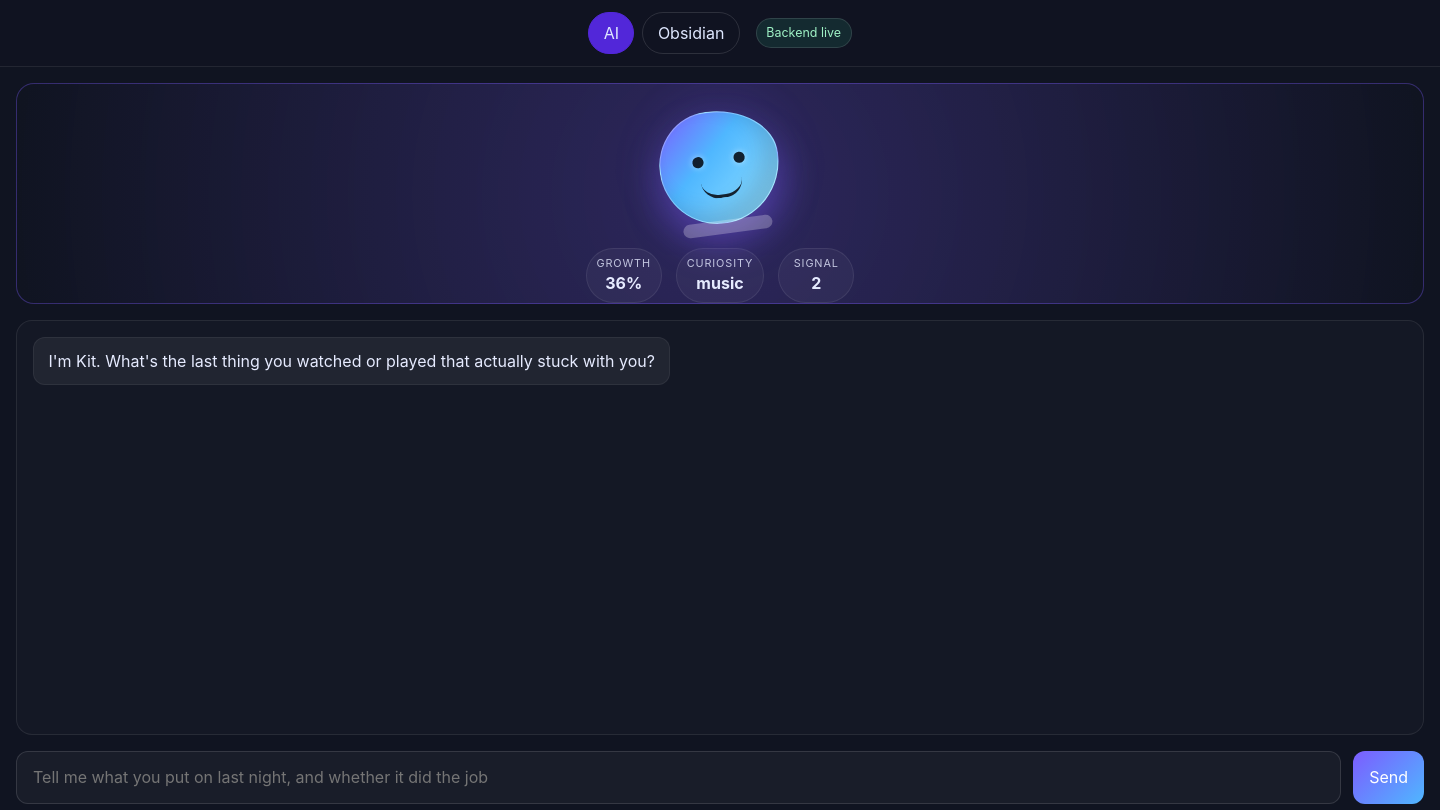
Kit UI › switches to the Obsidian route and shows the vault map
Click the button "Obsidian" at (691, 33), box [642, 12, 740, 54]
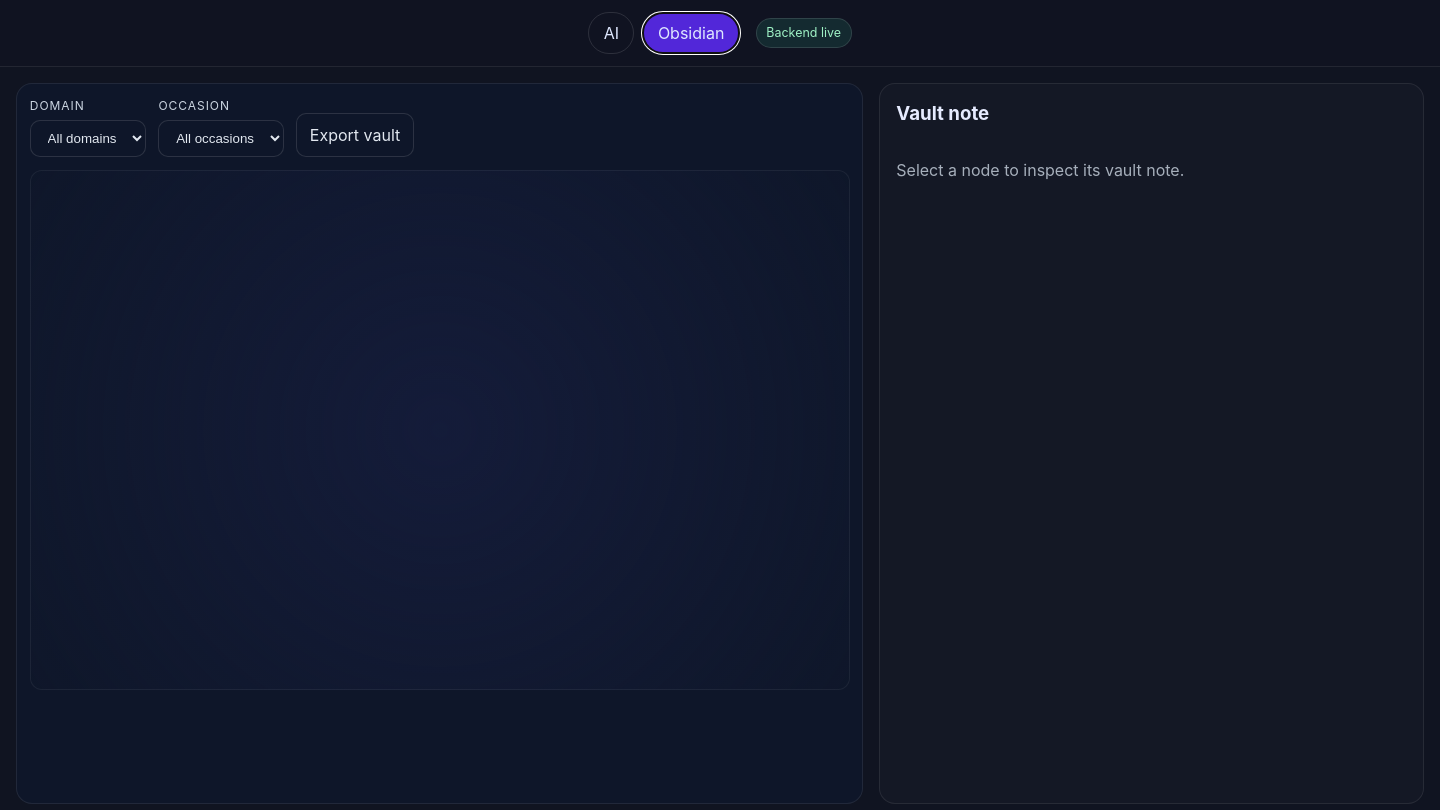
expect the link "Export vault" is shown: met, box [296, 113, 414, 157]
